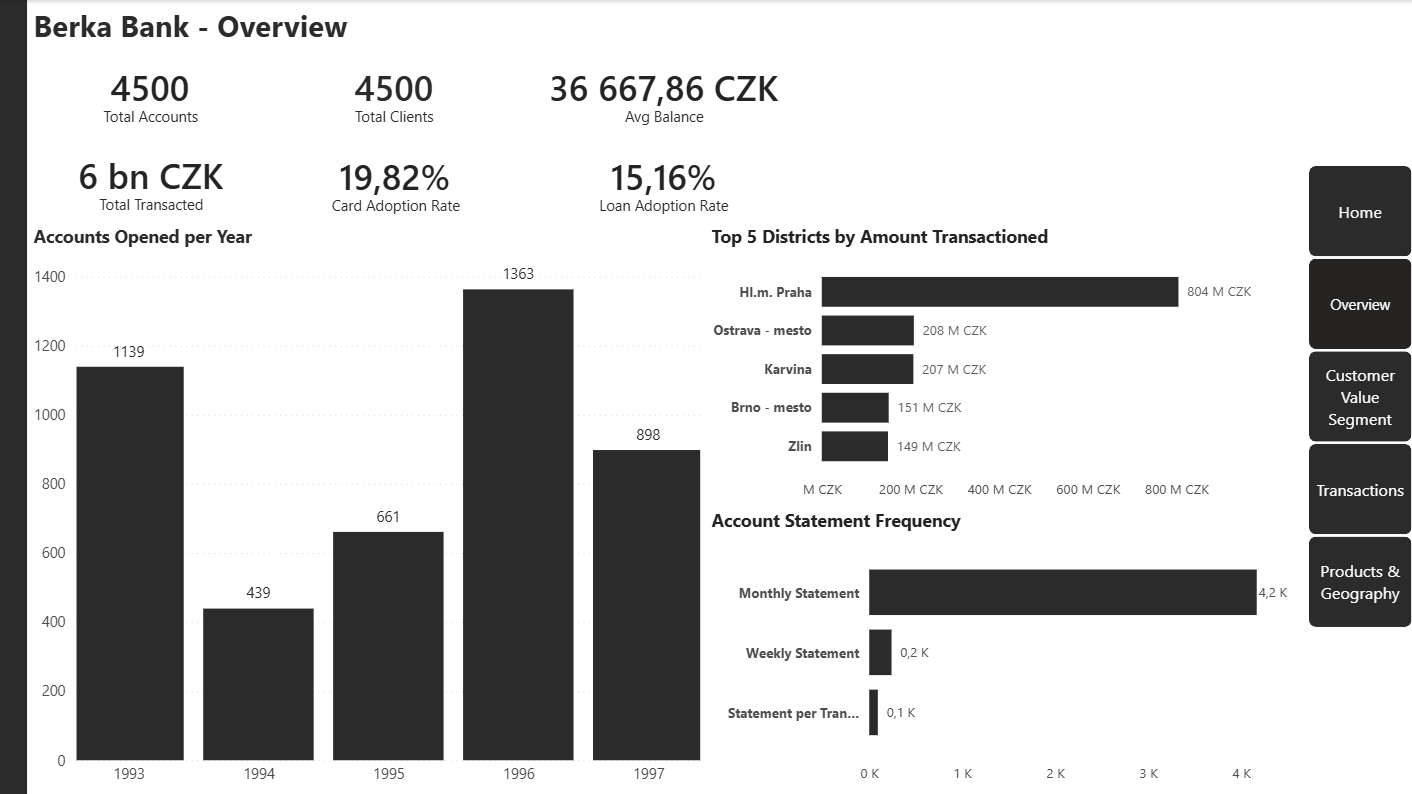

Layout of this report page (visuals, bound fields, positions):
{"tool":"powerbi","page":{"name":"Overview","canvas":[1280,720],"ordinal":1},"visuals":[{"type":"shape","box":[0,0,24.5,720.2],"z":0},{"type":"cardVisual","title":"Total Clients (Owners)","fields":{"Data":["_medidas.total_accounts"]},"box":[25.5,33.7,221.7,88],"z":0,"group":"g1"},{"type":"cardVisual","title":"Total Clients (Owners)","fields":{"Data":["_medidas.total_clients_owners"]},"box":[247.2,33.7,221.7,88],"z":0,"group":"g2"},{"type":"cardVisual","title":"Total Clients (Owners)","fields":{"Data":["_medidas.avg_balance_account"]},"box":[468.6,33.9,268.8,88],"z":0,"group":"g3"},{"type":"cardVisual","title":"Total Clients (Owners)","fields":{"Data":["_medidas.loan_adoption_rate"]},"box":[468.2,113.6,268.2,88.9],"z":0,"group":"g6"},{"type":"cardVisual","title":"Total Clients (Owners)","fields":{"Data":["_medidas.total_amount_transactioned"]},"box":[26.2,113.7,221.4,88],"z":0,"group":"g4"},{"type":"cardVisual","title":"Total Clients (Owners)","fields":{"Data":["_medidas.card_adoption_rate"]},"box":[247.2,113.7,221.4,89.1],"z":0,"group":"g5"},{"type":"group","id":"g1","title":"Grupo 1","box":[25.5,33.7,221.7,88],"z":1000},{"type":"textbox","box":[26,91.7,220.9,28.2],"z":1000,"group":"g1"},{"type":"textbox","box":[246.8,91.7,221.8,28.2],"z":1000,"group":"g2"},{"type":"textbox","box":[468.2,91.9,268.9,28.2],"z":1000,"group":"g3"},{"type":"textbox","box":[26.1,172,221.8,27.3],"z":1000,"group":"g4"},{"type":"textbox","box":[468.5,172.6,268.2,28.1],"z":1000,"group":"g6"},{"type":"textbox","box":[247.9,172.9,220.9,28.2],"z":1000,"group":"g5"},{"type":"textbox","box":[25.1,0,316,48.5],"z":2000},{"type":"group","id":"g2","title":"Grupo 2","box":[246.8,33.7,222.1,88],"z":3000},{"type":"pageNavigator","box":[1186.8,150.8,93.4,418.4],"z":4000},{"type":"group","id":"g3","title":"Grupo 3","box":[468.2,33.9,268.5,88],"z":5000},{"type":"group","id":"g4","title":"Grupo 4","box":[26.1,113.7,221.8,88],"z":6000},{"type":"group","id":"g5","title":"Grupo 5","box":[247.2,113.7,221.6,89.1],"z":7000},{"type":"clusteredColumnChart","title":"Accounts Opened per Year","fields":{"Y":["_medidas.total_accounts"],"Category":["accounts.account_date.Variação.Hierarquia de Datas.Ano"]},"box":[25.5,202.7,614.5,517.3],"z":8000},{"type":"group","id":"g6","title":"Grupo 6","box":[468.2,113.6,268.5,88.9],"z":9000},{"type":"clusteredBarChart","title":"Top 5 Districts by Amount Transactioned","fields":{"Category":["districts.district_name"],"Y":["_medidas.total_amount_transactioned"]},"box":[640,202.7,540.9,259.1],"z":10000},{"type":"clusteredBarChart","title":"Account Statement Frequency","fields":{"Y":["_medidas.total_accounts"],"Category":["accounts.frequency"]},"box":[640,460.9,540.9,259.1],"z":11000}]}

Visuals, with their boxes in screenshot pixels (x1, y1, x2, y2), scaled from the page's 1280x720 canvas onto the 1412x794 screenshot:
shape: (0, 0, 27, 793)
"Total Clients (Owners)" cardVisual: (28, 37, 273, 134)
"Total Clients (Owners)" cardVisual: (273, 37, 517, 134)
"Total Clients (Owners)" cardVisual: (517, 37, 813, 134)
"Total Clients (Owners)" cardVisual: (516, 125, 812, 223)
"Total Clients (Owners)" cardVisual: (29, 125, 273, 222)
"Total Clients (Owners)" cardVisual: (273, 125, 517, 224)
"Grupo 1" group: (28, 37, 273, 134)
textbox: (29, 101, 272, 132)
textbox: (272, 101, 517, 132)
textbox: (516, 101, 813, 132)
textbox: (29, 190, 273, 220)
textbox: (517, 190, 813, 221)
textbox: (273, 191, 517, 222)
textbox: (28, 0, 376, 53)
"Grupo 2" group: (272, 37, 517, 134)
pageNavigator: (1309, 166, 1411, 628)
"Grupo 3" group: (516, 37, 813, 134)
"Grupo 4" group: (29, 125, 273, 222)
"Grupo 5" group: (273, 125, 517, 224)
"Accounts Opened per Year" clusteredColumnChart: (28, 224, 706, 793)
"Grupo 6" group: (516, 125, 813, 223)
"Top 5 Districts by Amount Transactioned" clusteredBarChart: (706, 224, 1303, 509)
"Account Statement Frequency" clusteredBarChart: (706, 508, 1303, 793)
